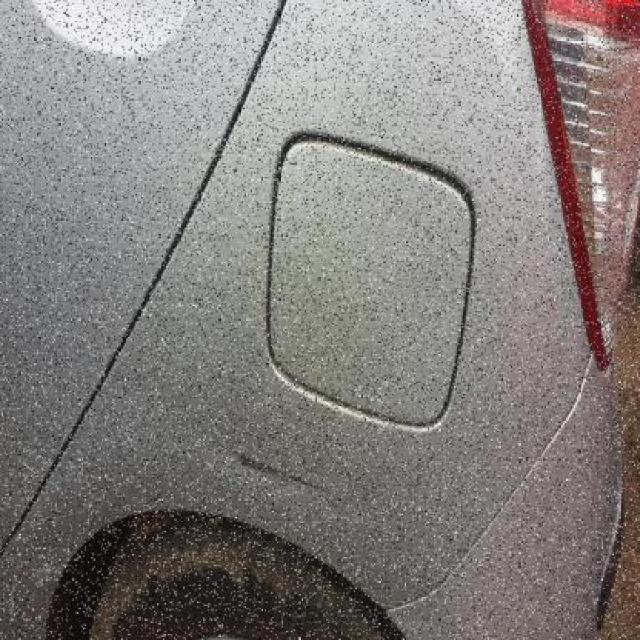quaterpanel-dent: (94, 357, 465, 640), (45, 472, 303, 640)
